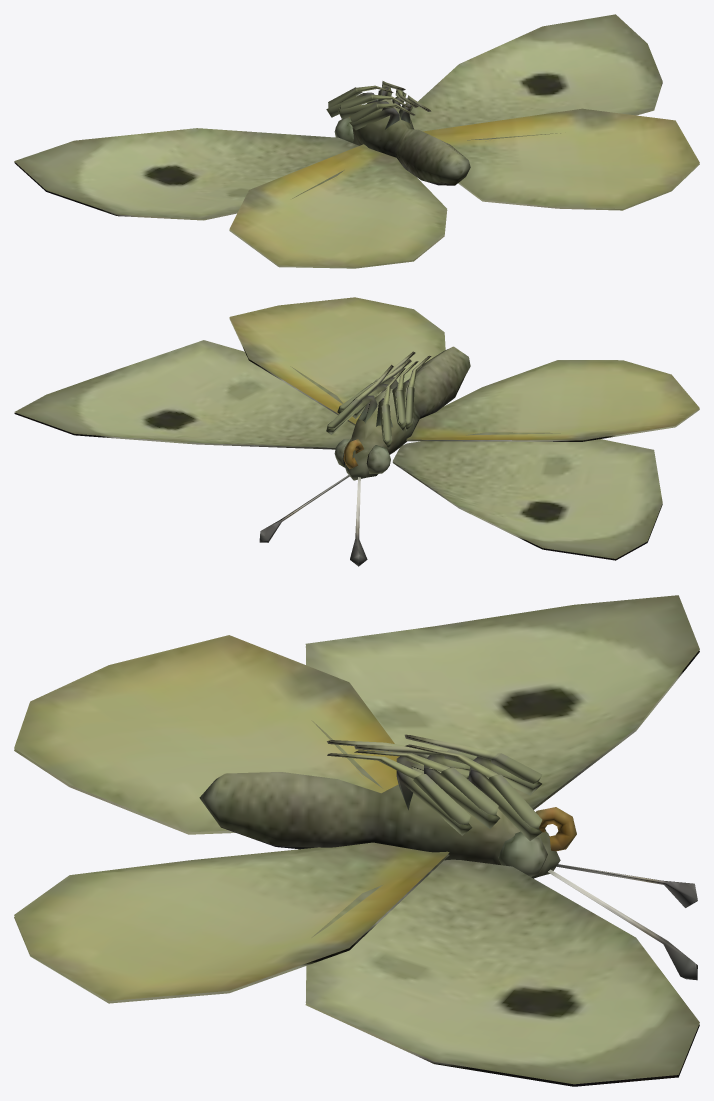
File: common-butterfly.glb
3 views of the same model, one above another, from view 1: azimuth 30°, elevation 25°; view 2: azimuth 150°, elevation 25°; view 3: azimuth 270°, elevation 25° (orthographic). The views are drawn at different scales.
Parts seen in each view (by area): view 1: InsectMonshirocho_node7; view 2: InsectMonshirocho_node7; view 3: InsectMonshirocho_node7.
Part boxes in pixels (bbox=[...]): InsectMonshirocho_node7: bbox=[14, 14, 699, 268]; InsectMonshirocho_node7: bbox=[14, 297, 699, 566]; InsectMonshirocho_node7: bbox=[14, 595, 699, 1086].
Size of the model in its own units: 3.48 by 0.6893 by 2.1.
Materials: 1 (1 with a texture image).
